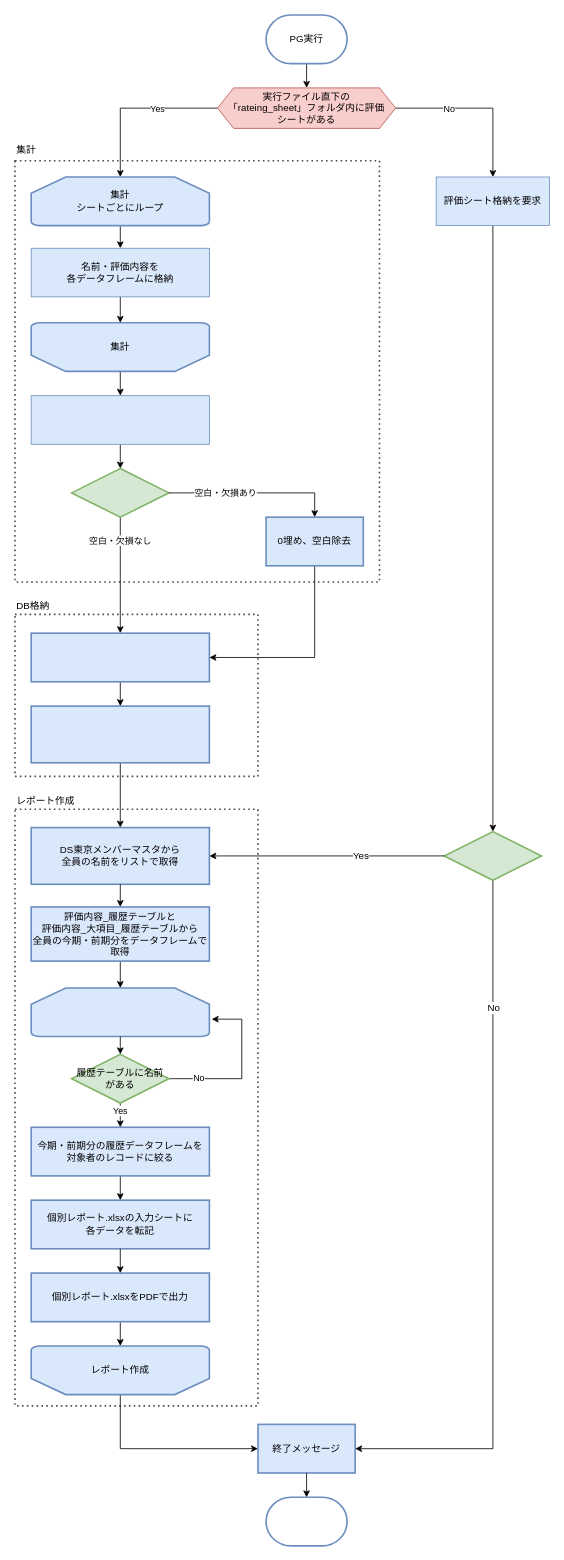
Some shapes in this 564 by 1560 pixel diagram are drawn without their labels. Here are the shapes that lost their labels. From the top down, the centre of each, then its label:
At pixel 119 419: "全データフレームを縦結".
At pixel 119 492: "空白・欠損確認".
At pixel 120 657: "評価内容を 評価内容_カレントテーブルと 評価内容_履歴テーブルに格納".
At pixel 120 734: "評価内容_大項目_カレントテーブル 評価内容_大項目_履歴テーブル 評価内容_縦持ち_履歴 に集計データ追加".
At pixel 492 855: "レポート作成 する？".
At pixel 120 1012: "レポート作成 名前ごとにループ".
At pixel 306 1521: "処理終了".
